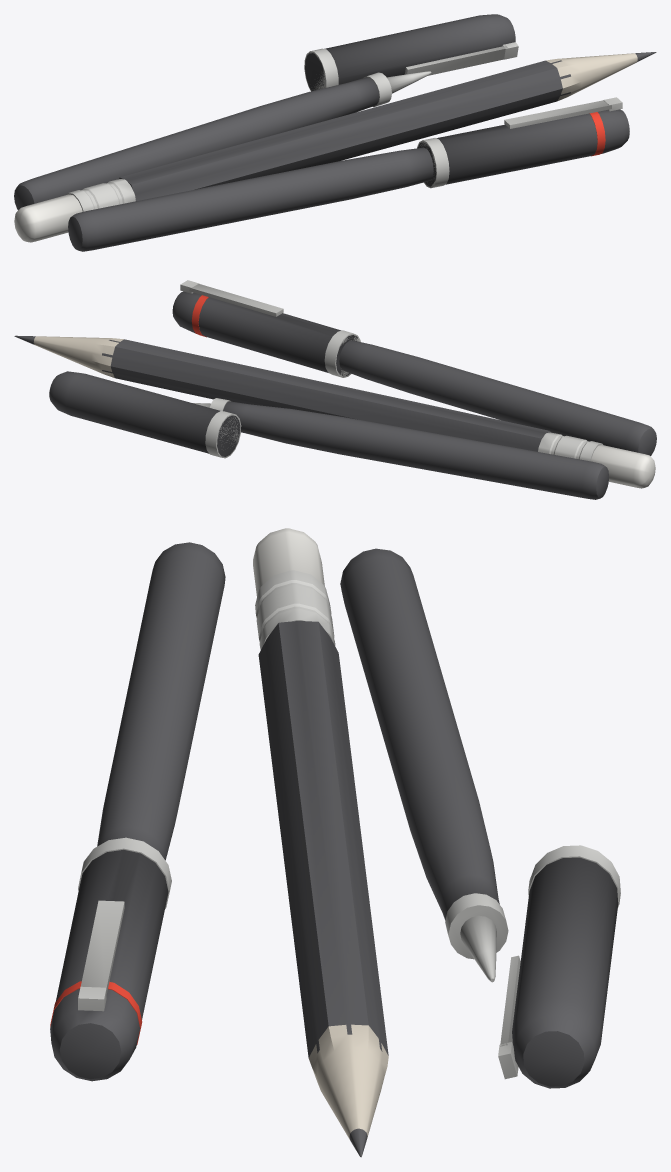
The model's file is drafting-pens.glb.
3 renders of one model, top to bottom at view 1: azimuth 30°, elevation 25°; view 2: azimuth 150°, elevation 25°; view 3: azimuth 270°, elevation 25°, orthographic. The views are drawn at different scales.
Parts seen in each view (by area): view 1: fineliner-a, pencil-b, fineliner-b; view 2: fineliner-b, fineliner-a, pencil-b; view 3: fineliner-b, pencil-b, fineliner-a.
Boxes of the visible parts, x1,y1,x2,y2 form: fineliner-a: (68, 97, 629, 251); pencil-b: (14, 52, 656, 242); fineliner-b: (14, 14, 518, 209); fineliner-b: (49, 371, 608, 499); fineliner-a: (172, 280, 656, 455); pencil-b: (14, 335, 655, 488); fineliner-b: (340, 548, 620, 1088); pencil-b: (253, 528, 388, 1157); fineliner-a: (50, 542, 225, 1081).
Bounding box in the file's own units: 1 × 0.0718 × 0.3997.
